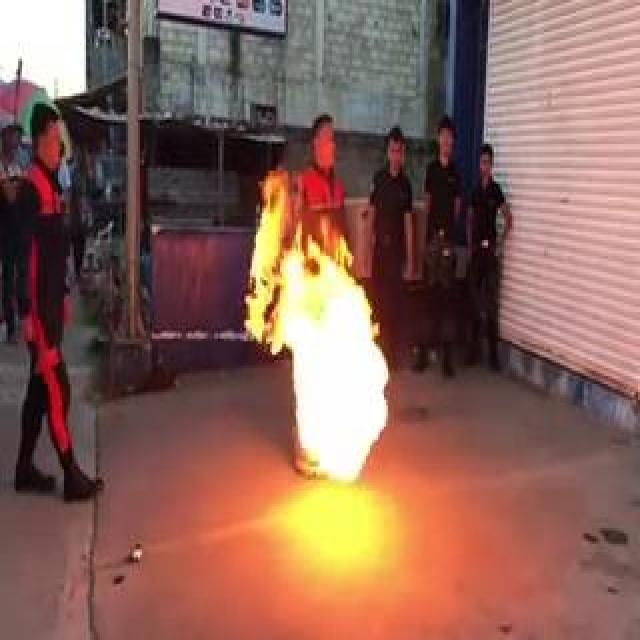Fire: (246, 176, 392, 496)
